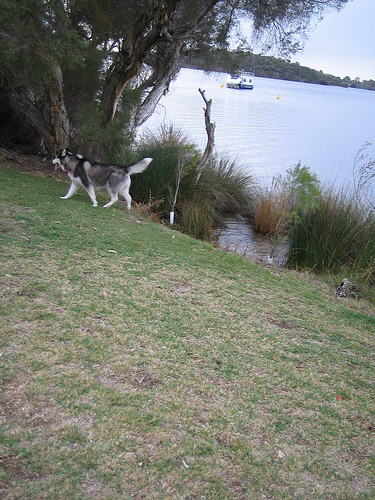dog: (47, 136, 155, 212)
